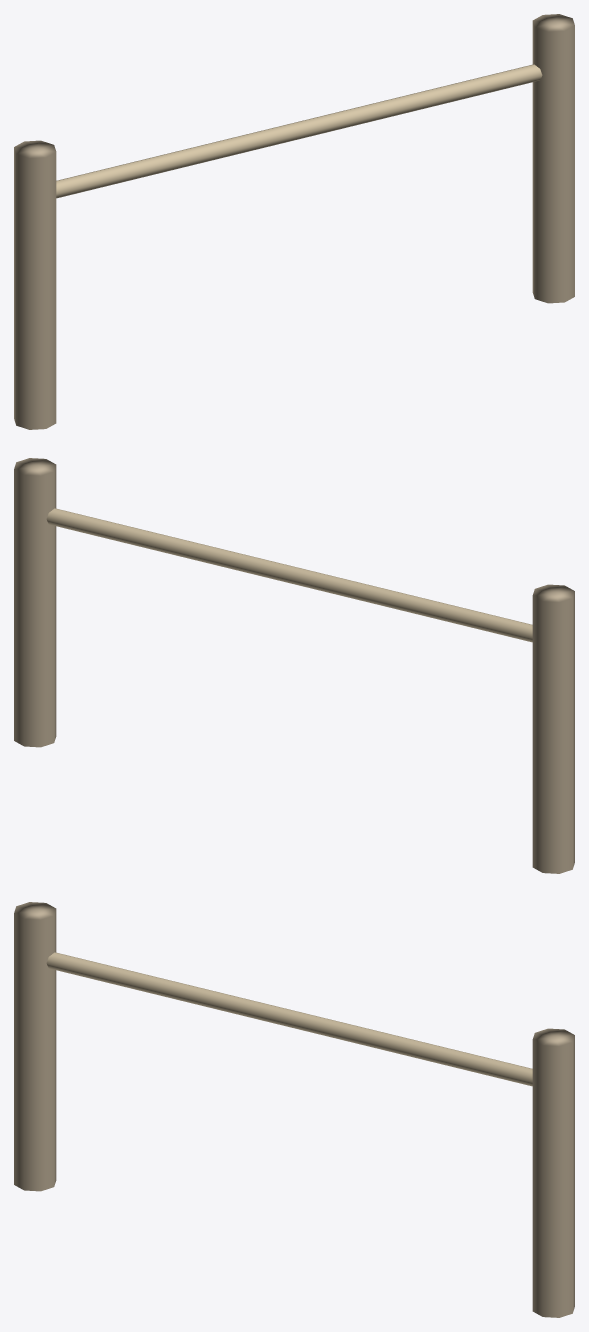
Rendered from practiceRail.glb.
3 views of the same model, one above another, from view 1: azimuth 30°, elevation 25°; view 2: azimuth 150°, elevation 25°; view 3: azimuth 330°, elevation 25° (orthographic).
Visible parts, largest first — view 1: post--1.5, rope; view 2: post--1.5, rope; view 3: post--1.5, rope.
Boxes of the visible parts, left/top/right/bottom form: post--1.5: left=14, top=14, right=574, bottom=429; rope: left=56, top=64, right=542, bottom=198; post--1.5: left=14, top=458, right=574, bottom=873; rope: left=46, top=508, right=532, bottom=642; post--1.5: left=14, top=902, right=574, bottom=1317; rope: left=46, top=952, right=532, bottom=1086.
Size of the model in its own units: 3.22 by 1.5 by 0.2201.
